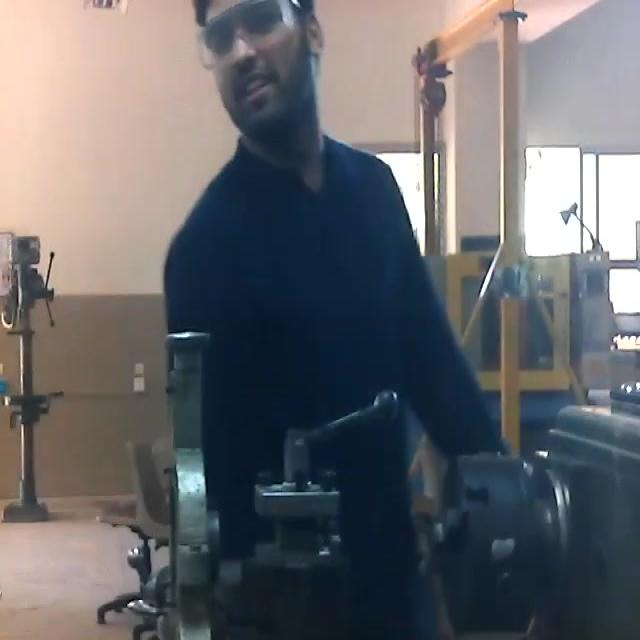googles: (192, 1, 292, 72)
